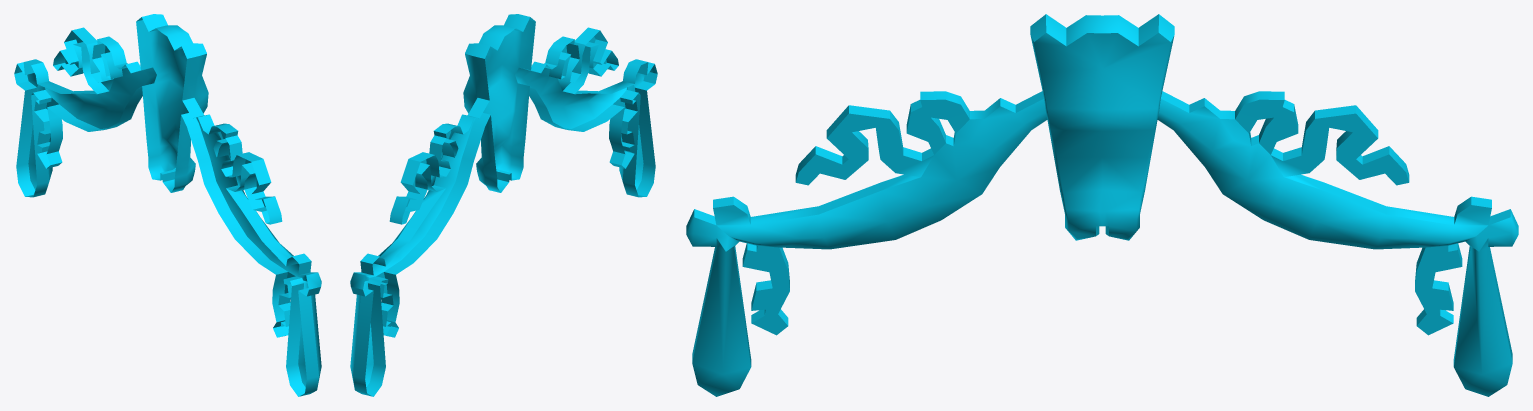
The model's file is EnterDoor_R02.FBX.
The picture shows the model from 3 angles, left to right: view 1: azimuth 30°, elevation 25°; view 2: azimuth 150°, elevation 25°; view 3: azimuth 270°, elevation 25°; orthographic projection. The views are drawn at different scales.
Visible parts, largest first — view 1: Plane019; view 2: Plane019; view 3: Plane019.
Boxes of the visible parts, bbox=[...] form: Plane019: bbox=[14, 14, 321, 396]; Plane019: bbox=[350, 14, 657, 396]; Plane019: bbox=[686, 14, 1518, 396].
Size of the model in its own units: 21.14 by 194 by 391.
